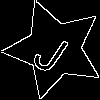J: (29, 24, 78, 76)
